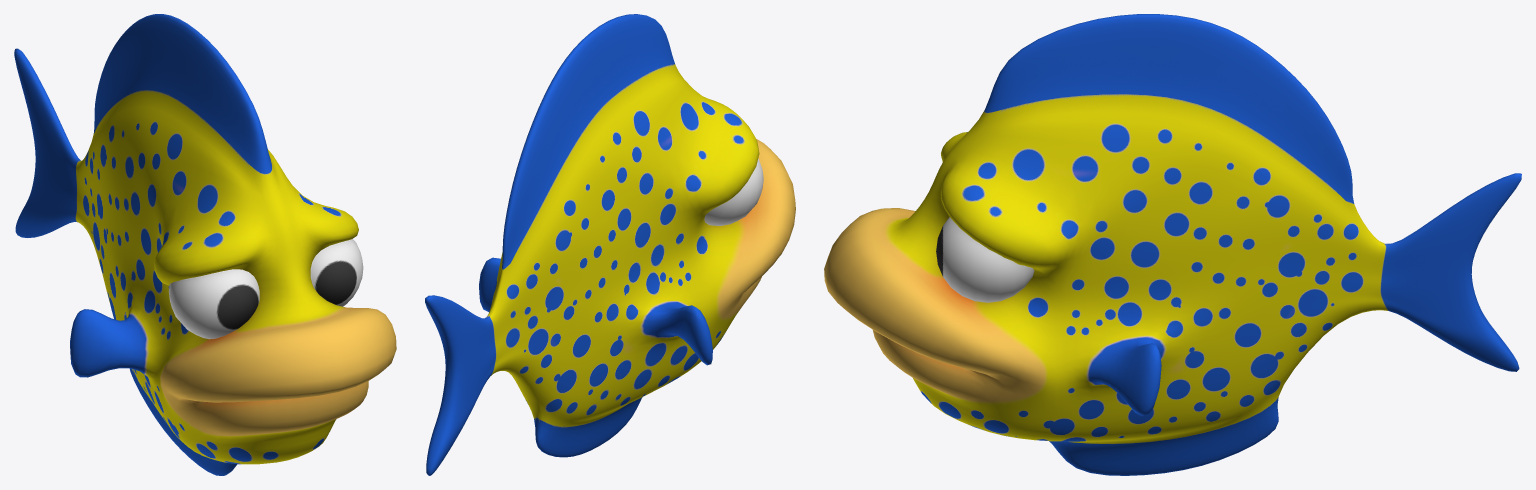
Rendered from cartoon_fish.glb.
3 renders of one model, left to right at view 1: azimuth 30°, elevation 25°; view 2: azimuth 150°, elevation 25°; view 3: azimuth 270°, elevation 25°, orthographic. The views are drawn at different scales.
Parts seen in each view (by area): view 1: Cube.007; view 2: Cube.007; view 3: Cube.007.
Boxes of the visible parts, box(x1,y1,x2,y2) form: Cube.007: box(14, 14, 396, 475); Cube.007: box(425, 14, 795, 475); Cube.007: box(824, 14, 1521, 475).
Size of the model in its own units: 0.7819 by 1.35 by 1.86.
1 material, 1 textured.
